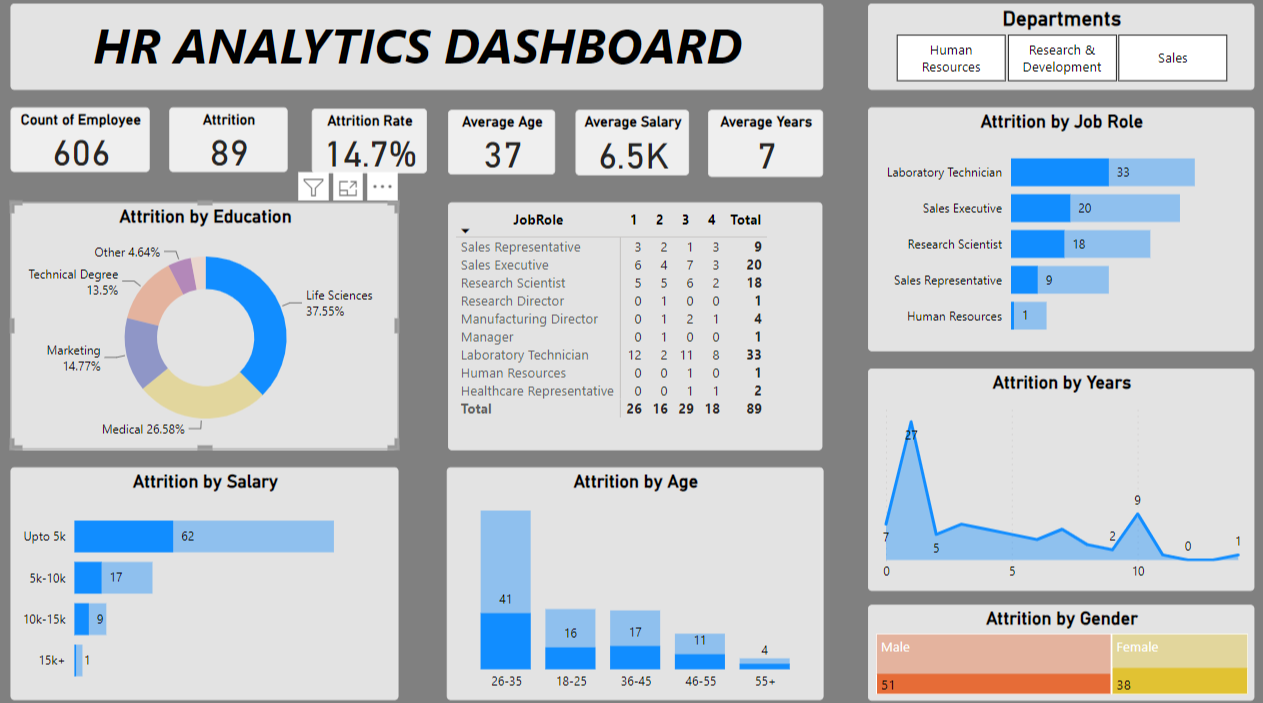

This screenshot's page, from the dashboard's own definition file:
{"tool":"powerbi","page":{"name":"Page 1","canvas":[1280,720],"ordinal":0},"visuals":[{"type":"card","title":"Count of Employee","fields":{"Values":["CountNonNull(HR_Analytics.EmpID)"]},"box":[17,113.8,139.4,64.9],"z":0},{"type":"card","title":"Attrition","fields":{"Values":["Sum(HR_Analytics.AttritionCount)"]},"box":[176.6,113.8,118.1,64.9],"z":1000},{"type":"card","title":"Attrition Rate","fields":{"Values":["HR_Analytics.AttritionRate"]},"box":[319.1,114.9,114.9,64.9],"z":2000},{"type":"card","title":"Average Age ","fields":{"Values":["Avg(HR_Analytics.Age)"]},"box":[455.3,116,107.4,64.9],"z":3000},{"type":"card","title":"Average Salary","fields":{"Values":["Avg(HR_Analytics.MonthlyIncome)"]},"box":[583,116,113.8,66],"z":4000},{"type":"card","title":"Average Years ","fields":{"Values":["Avg(HR_Analytics.YearsAtCompany)"]},"box":[714.9,116,114.9,67],"z":5000},{"type":"donutChart","title":"Attrition by Education","fields":{"Category":["HR_Analytics.EducationField"],"Y":["Sum(HR_Analytics.AttritionCount)"]},"box":[17,208.5,388.3,247.9],"z":6000},{"type":"columnChart","title":"Attrition by Age","fields":{"Category":["HR_Analytics.AgeGroup"],"Y":["Sum(HR_Analytics.AttritionCount)"]},"box":[453.2,473.4,376.6,233],"z":7000},{"type":"pivotTable","fields":{"Rows":["HR_Analytics.JobRole"],"Columns":["HR_Analytics.JobSatisfaction"],"Values":["Sum(HR_Analytics.AttritionCount)"]},"box":[455.3,208.5,374.5,247.9],"z":8000},{"type":"barChart","title":"Attrition by Salary","fields":{"Category":["HR_Analytics.SalarySlab"],"Y":["Sum(HR_Analytics.AttritionCount)"]},"box":[17,473.4,388.3,233],"z":9000},{"type":"barChart","title":"Attrition by Job Role","fields":{"Category":["HR_Analytics.JobRole"],"Y":["Sum(HR_Analytics.AttritionCount)"]},"box":[875.5,113.8,386.2,243.6],"z":10000},{"type":"areaChart","title":"Attrition by Years","fields":{"Category":["HR_Analytics.YearsAtCompany"],"Y":["Sum(HR_Analytics.AttritionCount)"]},"box":[875,375,386.2,222.5],"z":11000},{"type":"treemap","title":"Attrition by Gender","fields":{"Group":["HR_Analytics.Gender"],"Values":["Sum(HR_Analytics.AttritionCount)"]},"box":[875.5,610.6,386.2,95.7],"z":12000},{"type":"slicer","title":"Departments","fields":{"Values":["HR_Analytics.Department"]},"box":[875.5,9.6,386.2,86.2],"z":13000},{"type":"textbox","box":[17,9.6,812.8,86.2],"z":14000}]}

Visuals, with their boxes in screenshot pixels (x1, y1, x2, y2), scaled from the page's 1280x720 canvas onto the 1263x703 screenshot:
"Count of Employee" card: <bbox>17, 111, 154, 174</bbox>
"Attrition" card: <bbox>174, 111, 291, 174</bbox>
"Attrition Rate" card: <bbox>315, 112, 428, 176</bbox>
"Average Age " card: <bbox>449, 113, 555, 177</bbox>
"Average Salary" card: <bbox>575, 113, 688, 178</bbox>
"Average Years " card: <bbox>705, 113, 819, 179</bbox>
"Attrition by Education" donutChart: <bbox>17, 204, 400, 446</bbox>
"Attrition by Age" columnChart: <bbox>447, 462, 819, 690</bbox>
pivotTable - HR_Analytics.JobRole x HR_Analytics.JobSatisfaction: <bbox>449, 204, 819, 446</bbox>
"Attrition by Salary" barChart: <bbox>17, 462, 400, 690</bbox>
"Attrition by Job Role" barChart: <bbox>864, 111, 1245, 349</bbox>
"Attrition by Years" areaChart: <bbox>863, 366, 1244, 583</bbox>
"Attrition by Gender" treemap: <bbox>864, 596, 1245, 690</bbox>
"Departments" slicer: <bbox>864, 9, 1245, 94</bbox>
textbox: <bbox>17, 9, 819, 94</bbox>
